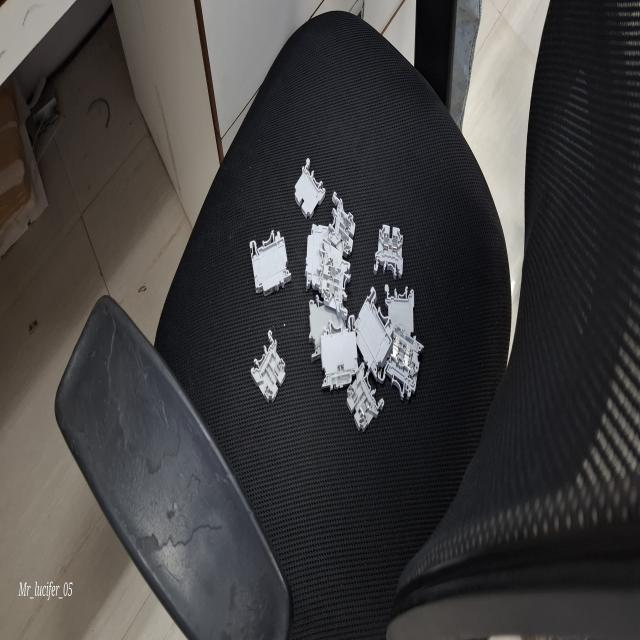Inverted: (290, 156, 328, 220)
Pass: (312, 243, 354, 320), (372, 205, 407, 282), (327, 179, 358, 256)
Reject: (248, 326, 290, 412), (344, 360, 388, 434)
